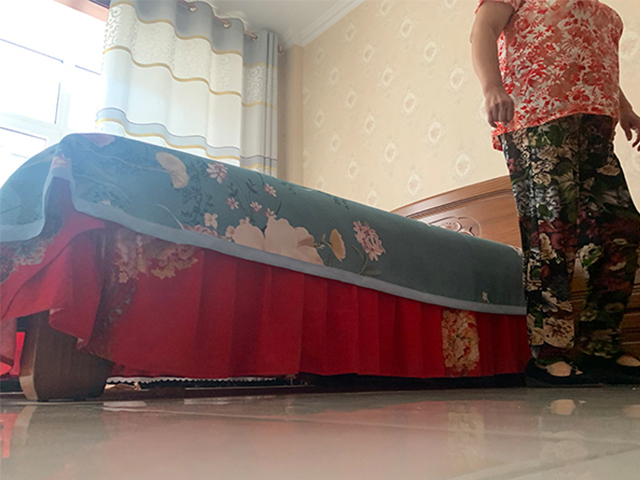bed: (1, 132, 529, 403)
